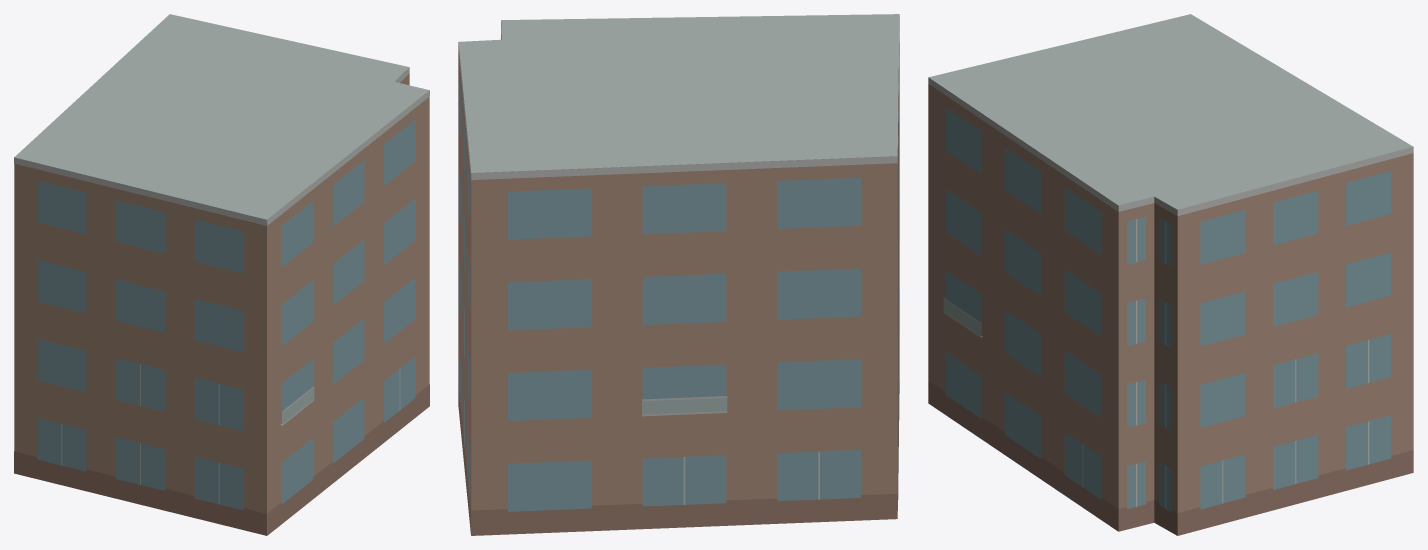
The model's file is survey-upis-32922675.glb.
The picture shows the model from 3 angles, left to right: view 1: azimuth 30°, elevation 25°; view 2: azimuth 150°, elevation 25°; view 3: azimuth 270°, elevation 25°; orthographic projection. The views are drawn at different scales.
Parts seen in each view (by area): view 1: survey-upis-32922675.tmp; view 2: survey-upis-32922675.tmp; view 3: survey-upis-32922675.tmp.
Part boxes in pixels (x1=…): survey-upis-32922675.tmp: x1=14, y1=14, x2=429, y2=535; survey-upis-32922675.tmp: x1=458, y1=14, x2=899, y2=535; survey-upis-32922675.tmp: x1=928, y1=14, x2=1413, y2=535.
Size of the model in its own units: 16.11 by 12.5 by 16.87.
